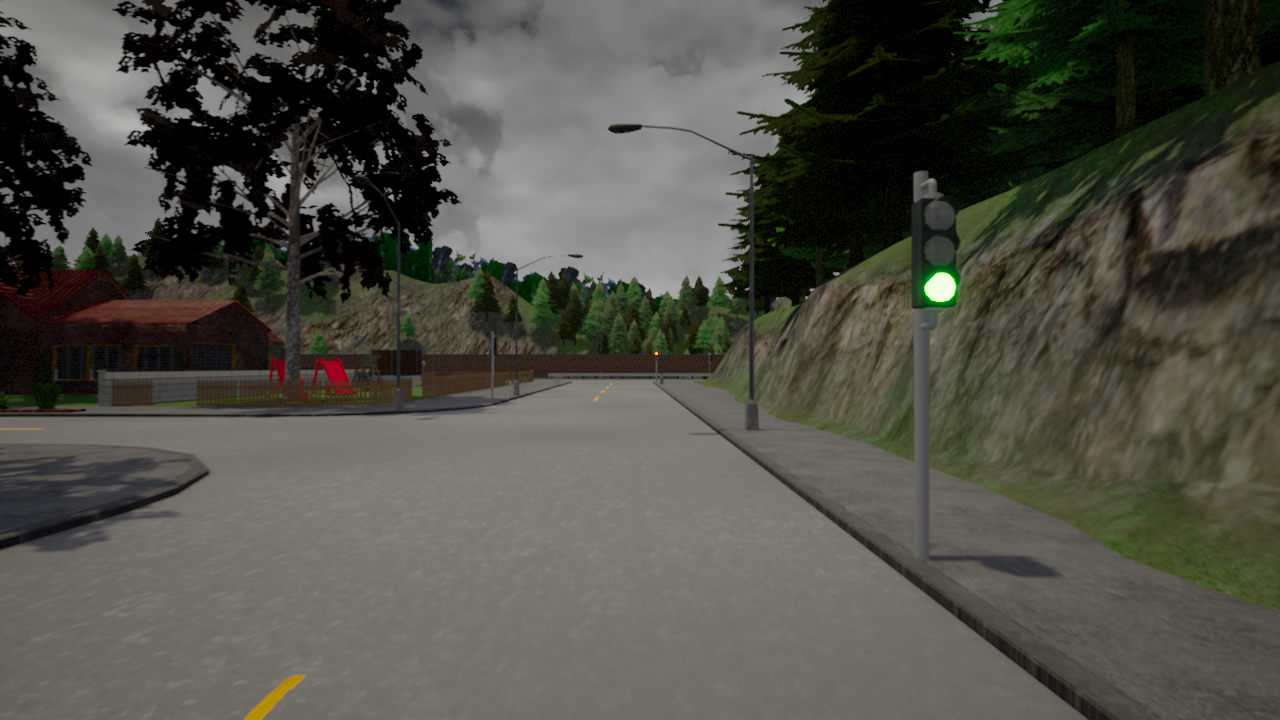green: (907, 194, 956, 311)
